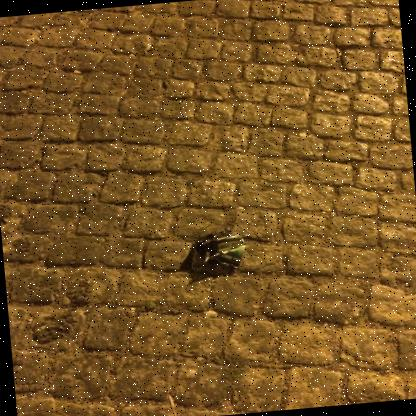Cigarette: (335, 49, 341, 56)
Plastic film: (195, 228, 246, 269)
